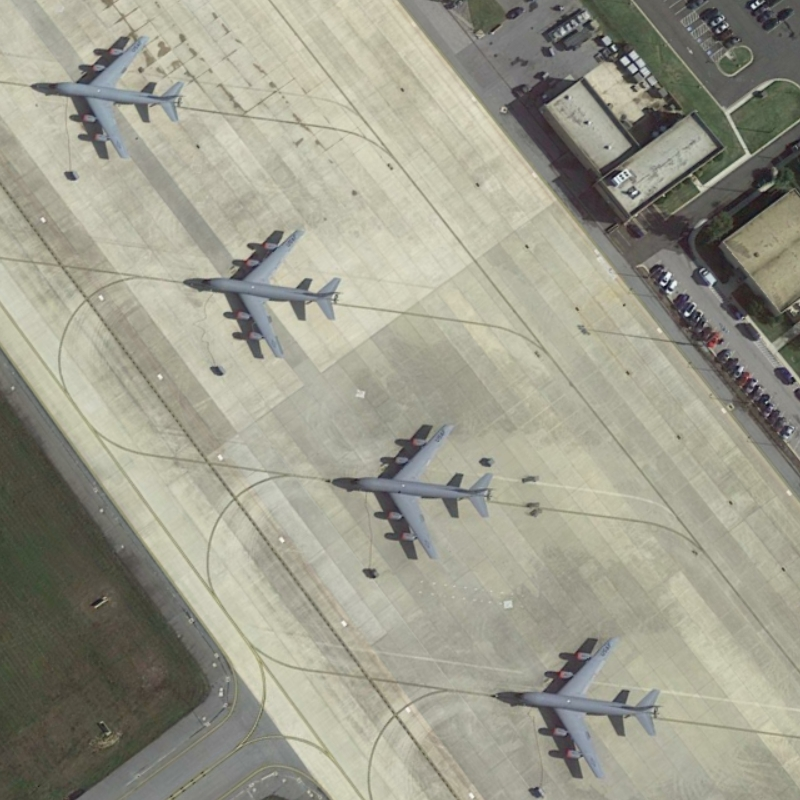A14: (507, 633, 666, 781), (340, 421, 499, 566), (196, 223, 349, 365), (37, 30, 190, 165)
